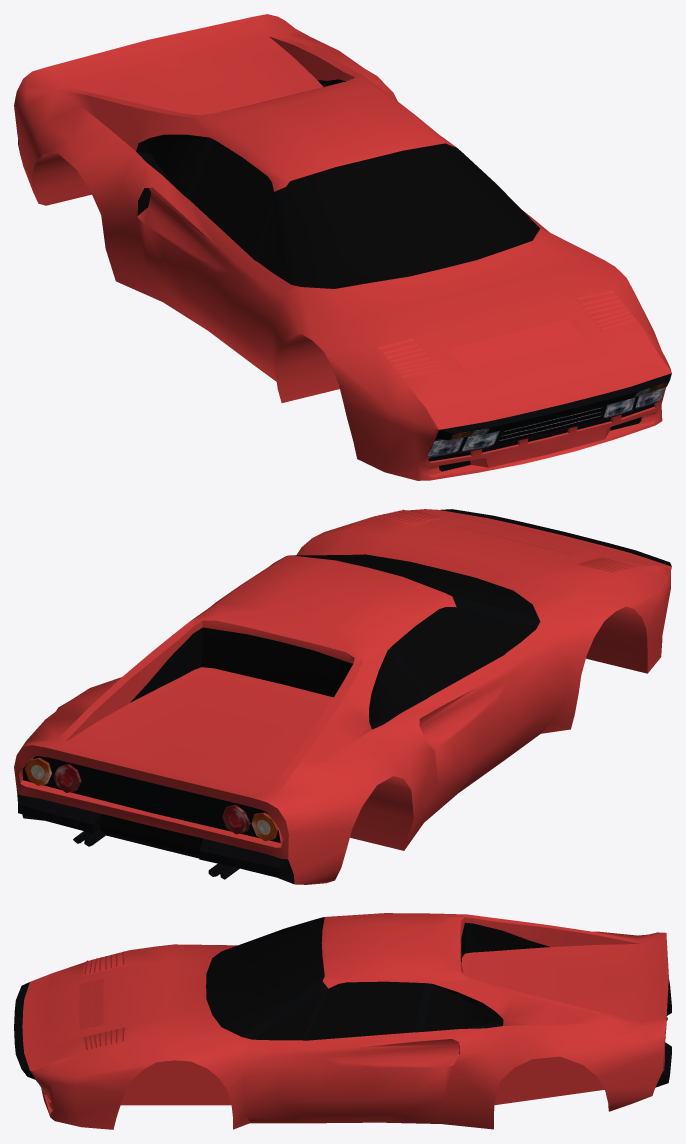
The model's file is ItalRareSupercar.fbx.
3 views of the same model, one above another, from view 1: azimuth 30°, elevation 25°; view 2: azimuth 150°, elevation 25°; view 3: azimuth 270°, elevation 25° (orthographic). The views are drawn at different scales.
Parts seen in each view (by area): view 1: Plane; view 2: Plane; view 3: Plane.
Boxes of the visible parts, x1,y1,x2,y2 form: Plane: [14, 14, 671, 480]; Plane: [14, 509, 671, 884]; Plane: [14, 913, 671, 1129].
Bounding box in the file's own units: 125 × 65.97 × 286.
